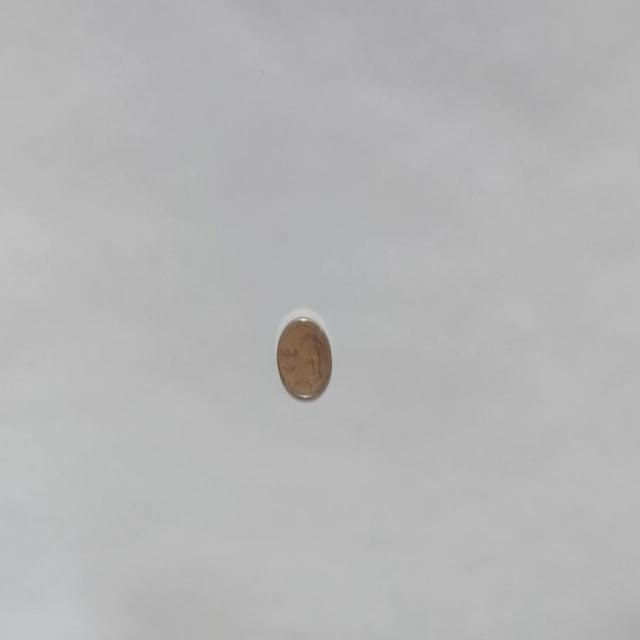seribu rupiah koin: (275, 310, 333, 400)
